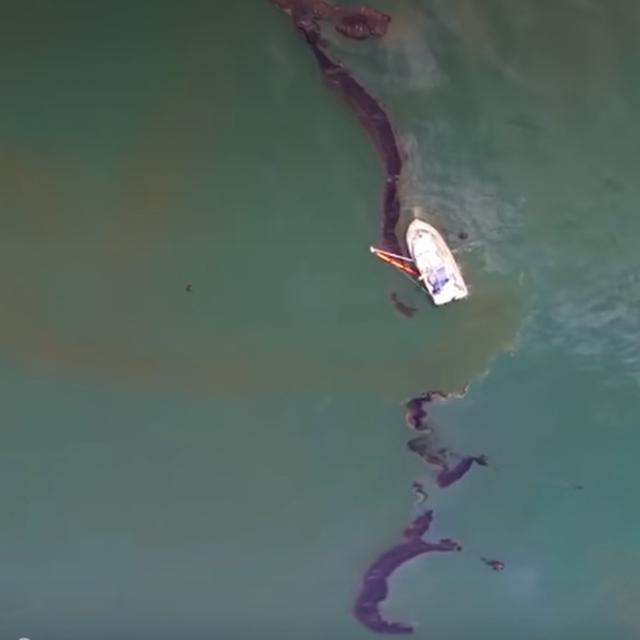truecolor: (271, 0, 402, 254), (353, 511, 461, 634), (405, 386, 488, 489), (412, 482, 428, 503)
